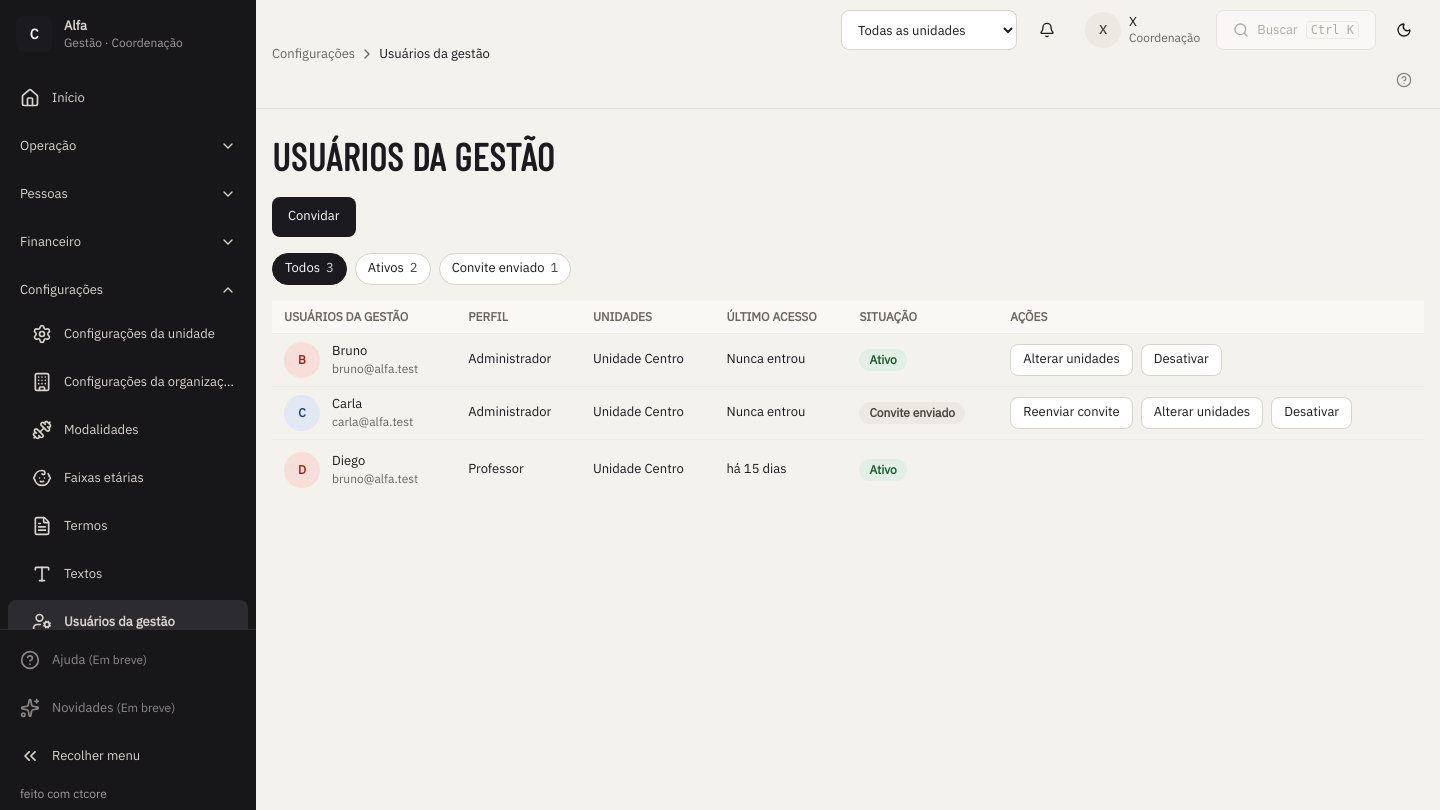
Test: UsersPage › CA20: valida os campos sem enviar; com dados válidos fecha, avisa e a nova linha aparece como Convite enviado
This screenshot has width=1440, height=810.
Click the button "Convidar" at (314, 216), box left=272, top=196, right=356, bottom=236
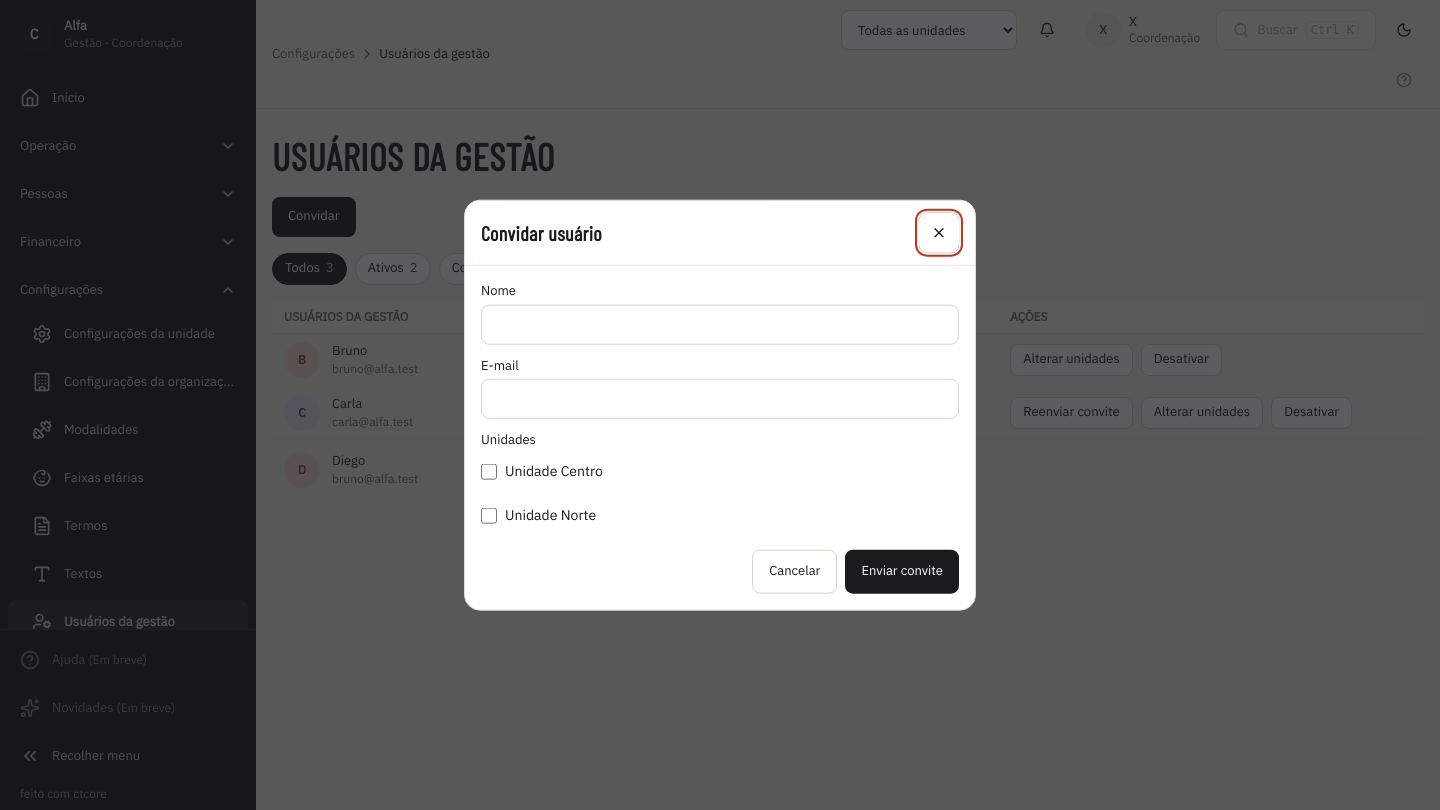
Type "invalido" into the field labelled "E-mail" at (720, 399), box left=481, top=379, right=959, bottom=419
Click the button "Enviar convite" at (902, 571), box left=845, top=549, right=959, bottom=593
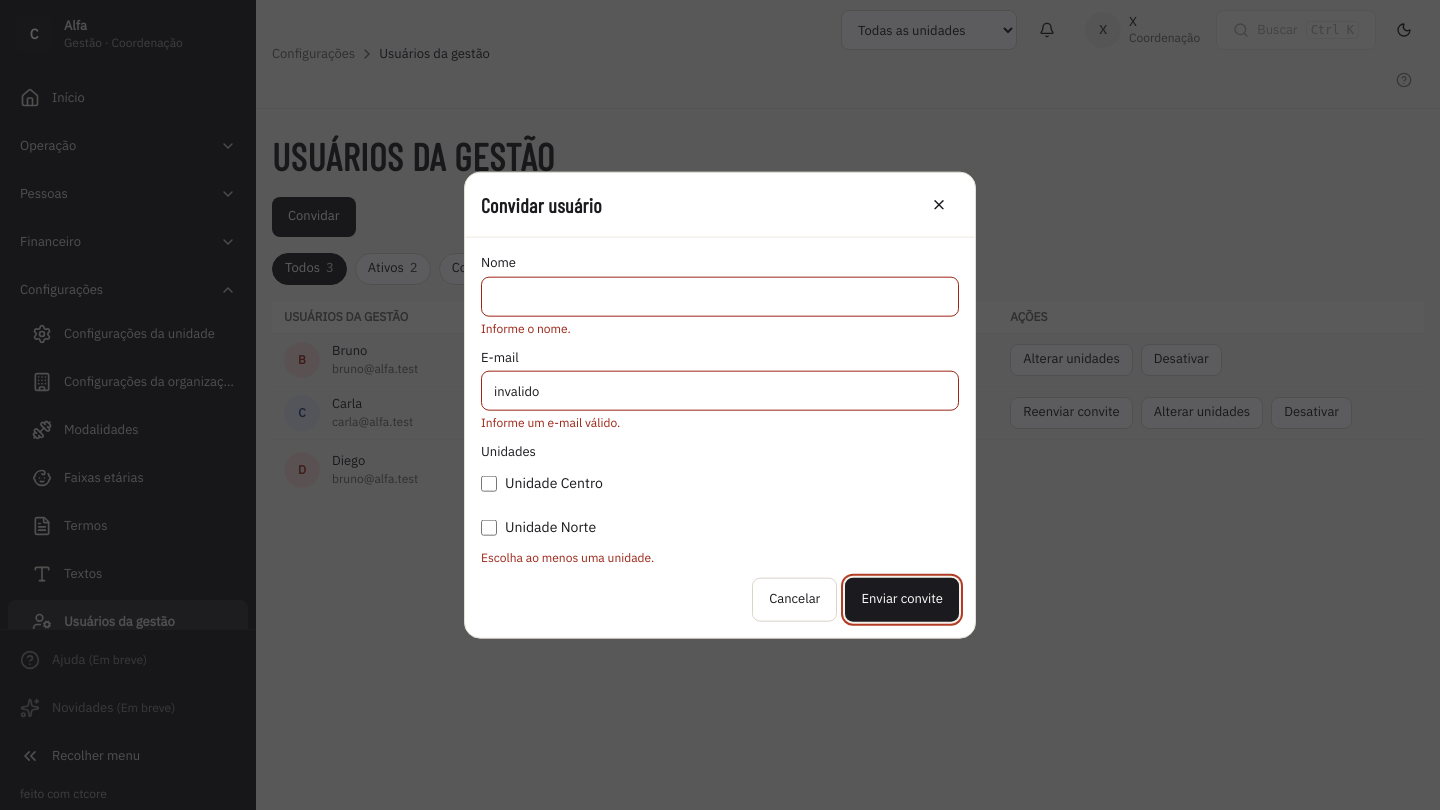
Now the text "Informe o nome." is shown, box left=481, top=320, right=571, bottom=335
Now the text "Informe um e-mail válido." is shown, box left=481, top=415, right=620, bottom=430
Now the text "Escolha ao menos uma unidade." is shown, box left=481, top=549, right=654, bottom=564
Type "Fabio" into the field labelled "Nome" at (720, 296), box left=481, top=276, right=959, bottom=316
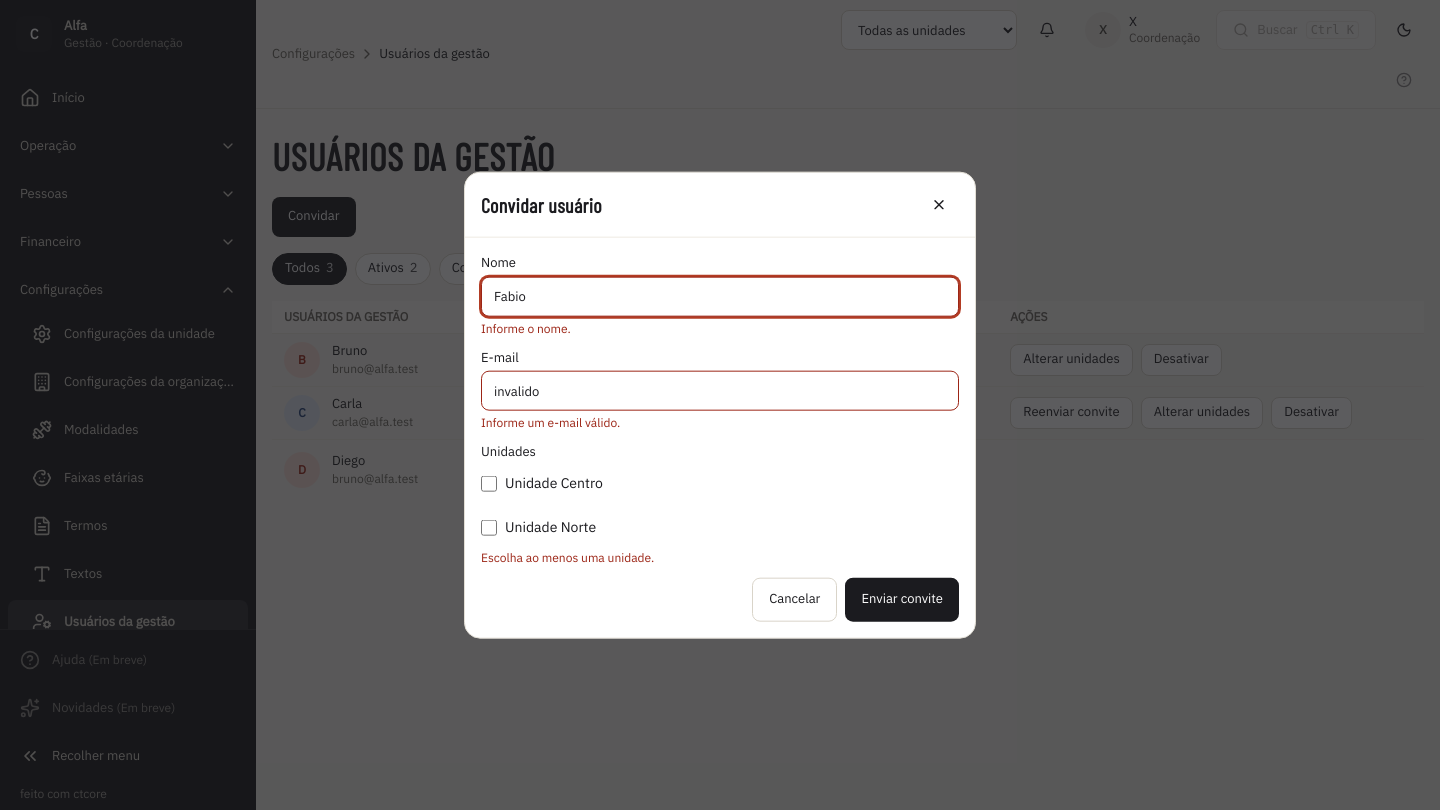
Replace the text in the field labelled "E-mail" with "fabio@alfa.test" at (720, 391), box left=481, top=371, right=959, bottom=411
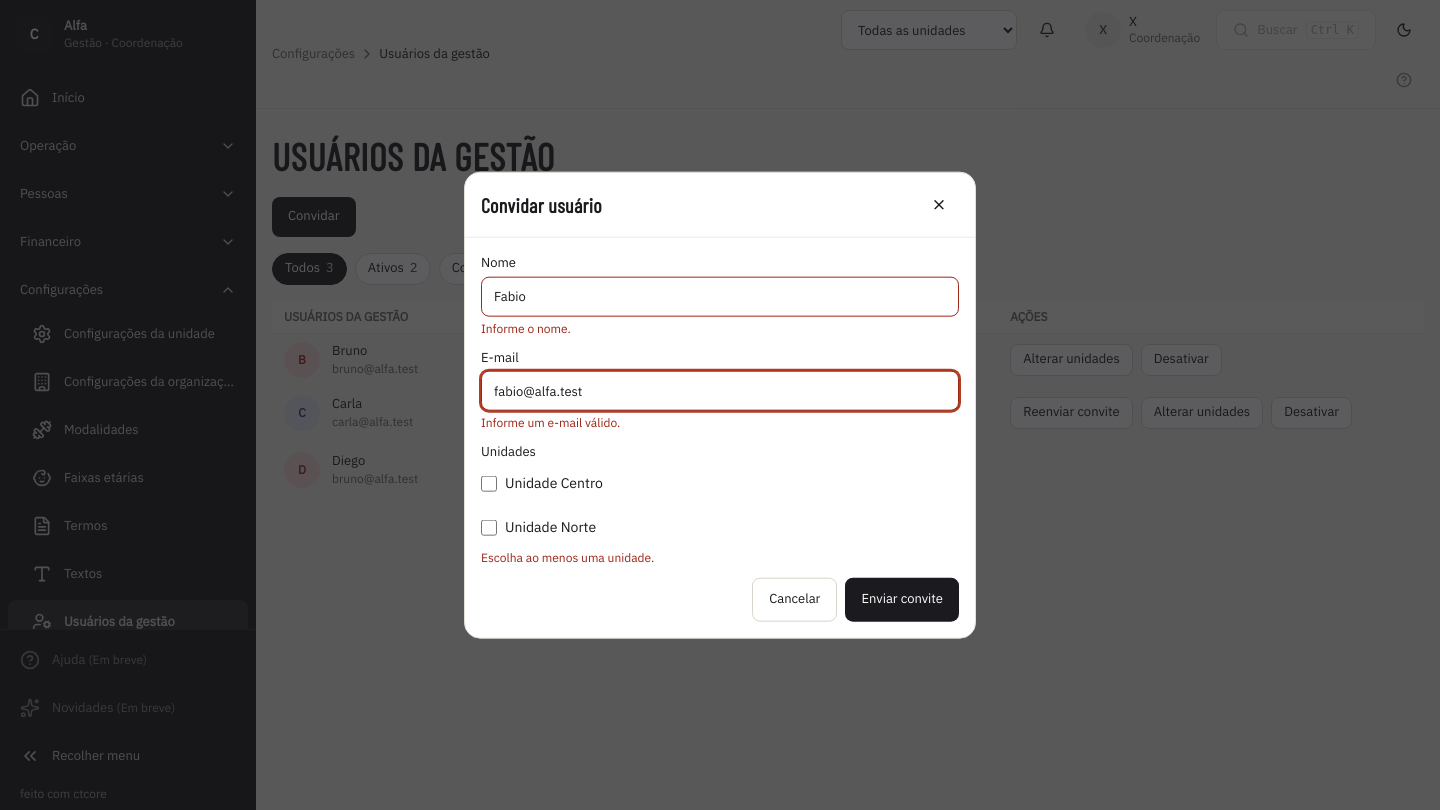
Click the checkbox labelled "Unidade Norte" at (489, 527), box left=481, top=519, right=497, bottom=535
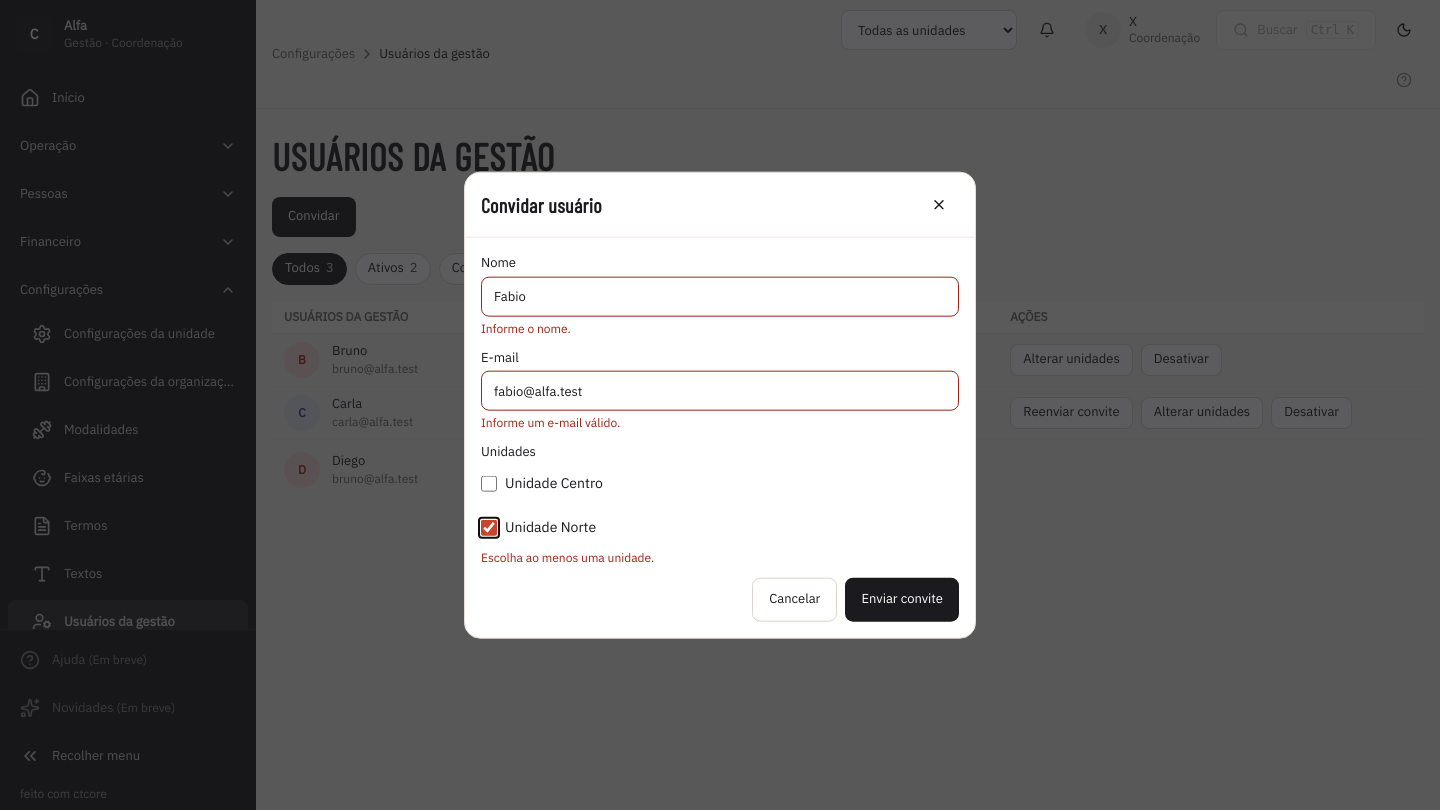
Click the button "Enviar convite" at (902, 599), box left=845, top=577, right=959, bottom=621
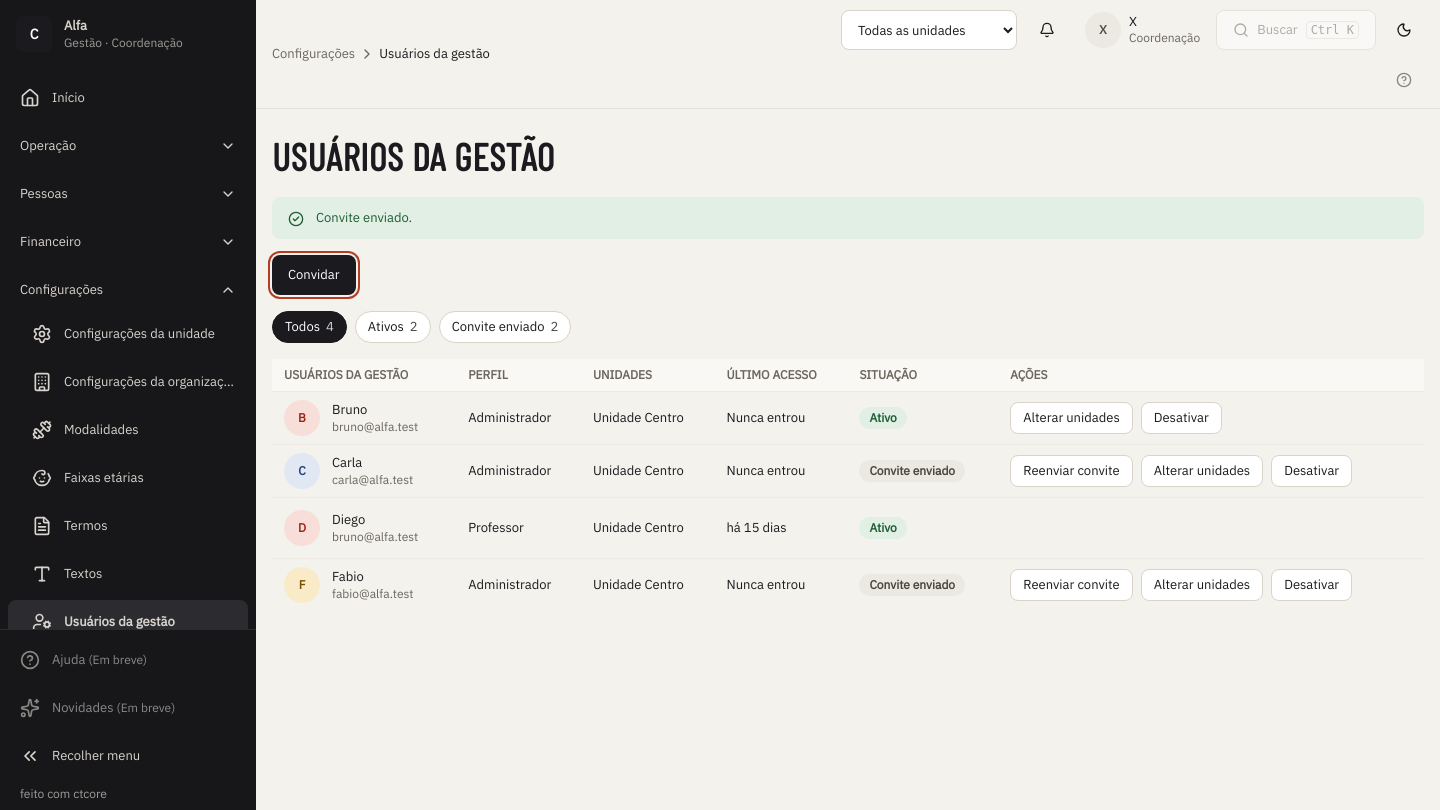
Now the dialog is gone
Now the message reads "Convite enviado.", box left=316, top=208, right=412, bottom=226
Now the text "fabio@alfa.test" is shown, box left=332, top=586, right=414, bottom=602
